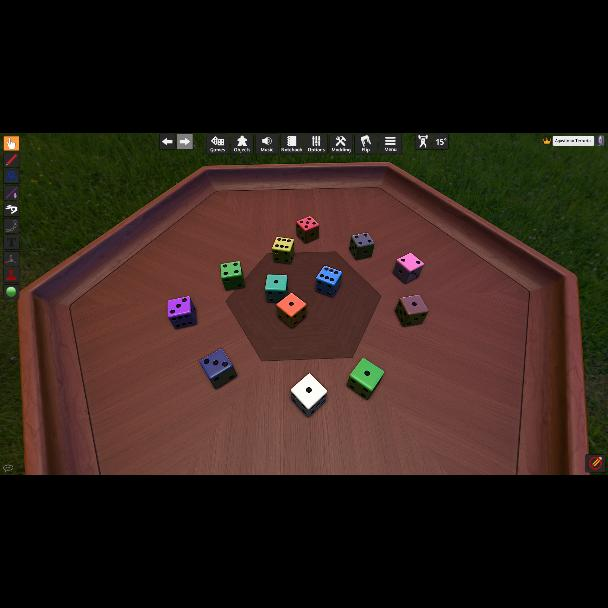d6: (290, 373, 326, 417), (200, 348, 236, 390), (347, 358, 382, 399), (276, 293, 306, 329), (167, 296, 197, 330), (396, 296, 426, 328), (394, 252, 422, 284), (314, 266, 342, 298), (221, 262, 245, 290), (349, 233, 373, 261), (266, 274, 288, 304), (296, 216, 318, 244), (272, 237, 294, 265)
